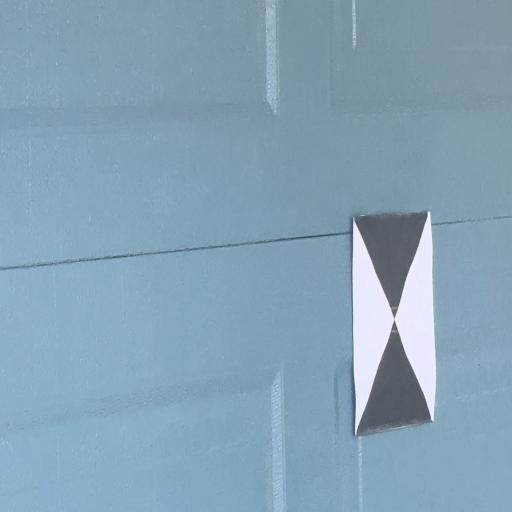target: (354, 214, 434, 428)
